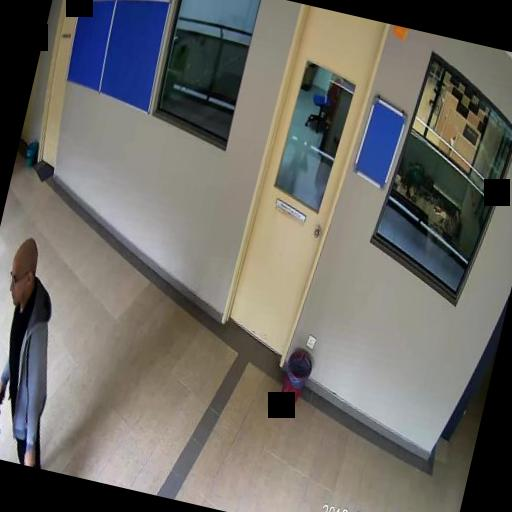Handgun: (0, 389, 6, 434)
